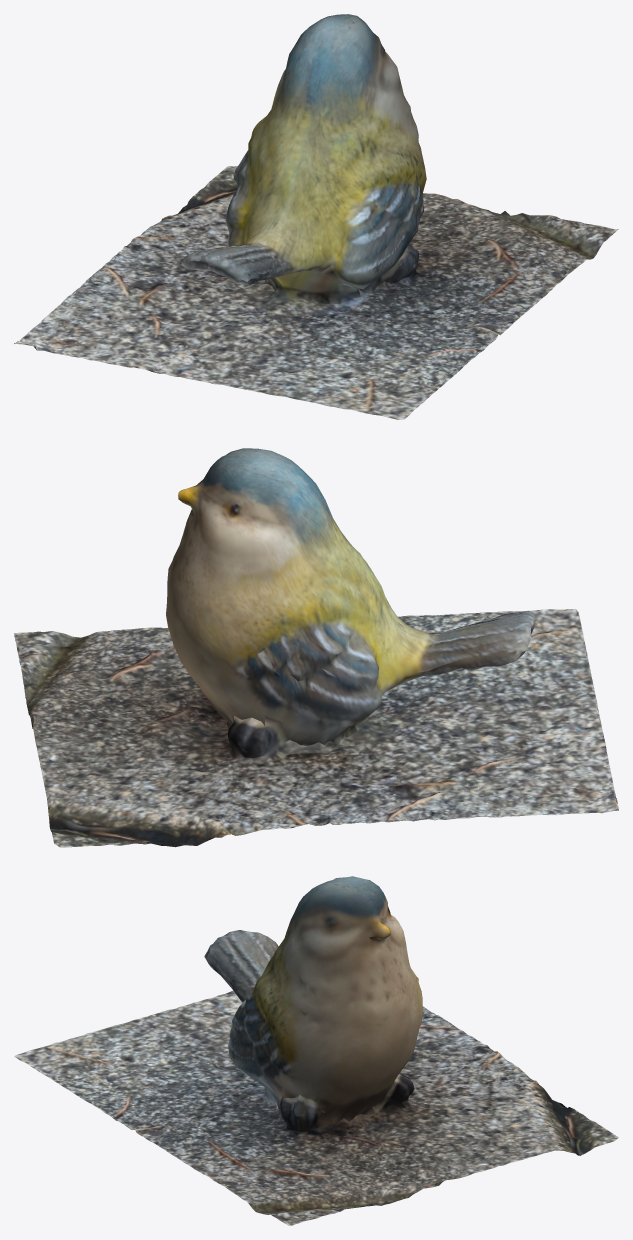
Rendered from sikorka.glb.
The picture shows the model from 3 angles, top to bottom: view 1: azimuth 30°, elevation 25°; view 2: azimuth 150°, elevation 25°; view 3: azimuth 270°, elevation 25°; orthographic projection. The views are drawn at different scales.
Parts seen in each view (by area): view 1: Object_2; view 2: Object_2; view 3: Object_2.
Part boxes in pixels (box(x1,y1,x2,y2)): Object_2: box(14, 14, 618, 419); Object_2: box(14, 448, 618, 847); Object_2: box(14, 876, 618, 1225).
Size of the model in its own units: 0.7796 by 0.3392 by 0.7517.
Materials: 1 (1 with a texture image).
